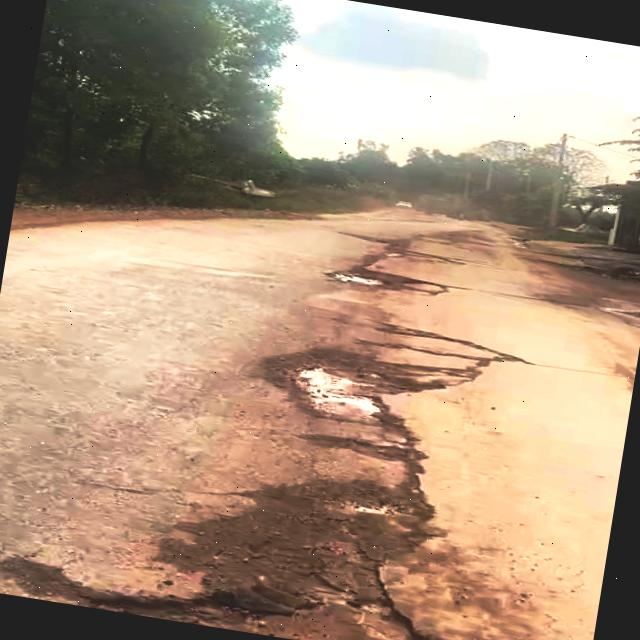pothole: (74, 483, 495, 640), (252, 338, 450, 474), (331, 262, 451, 304)
